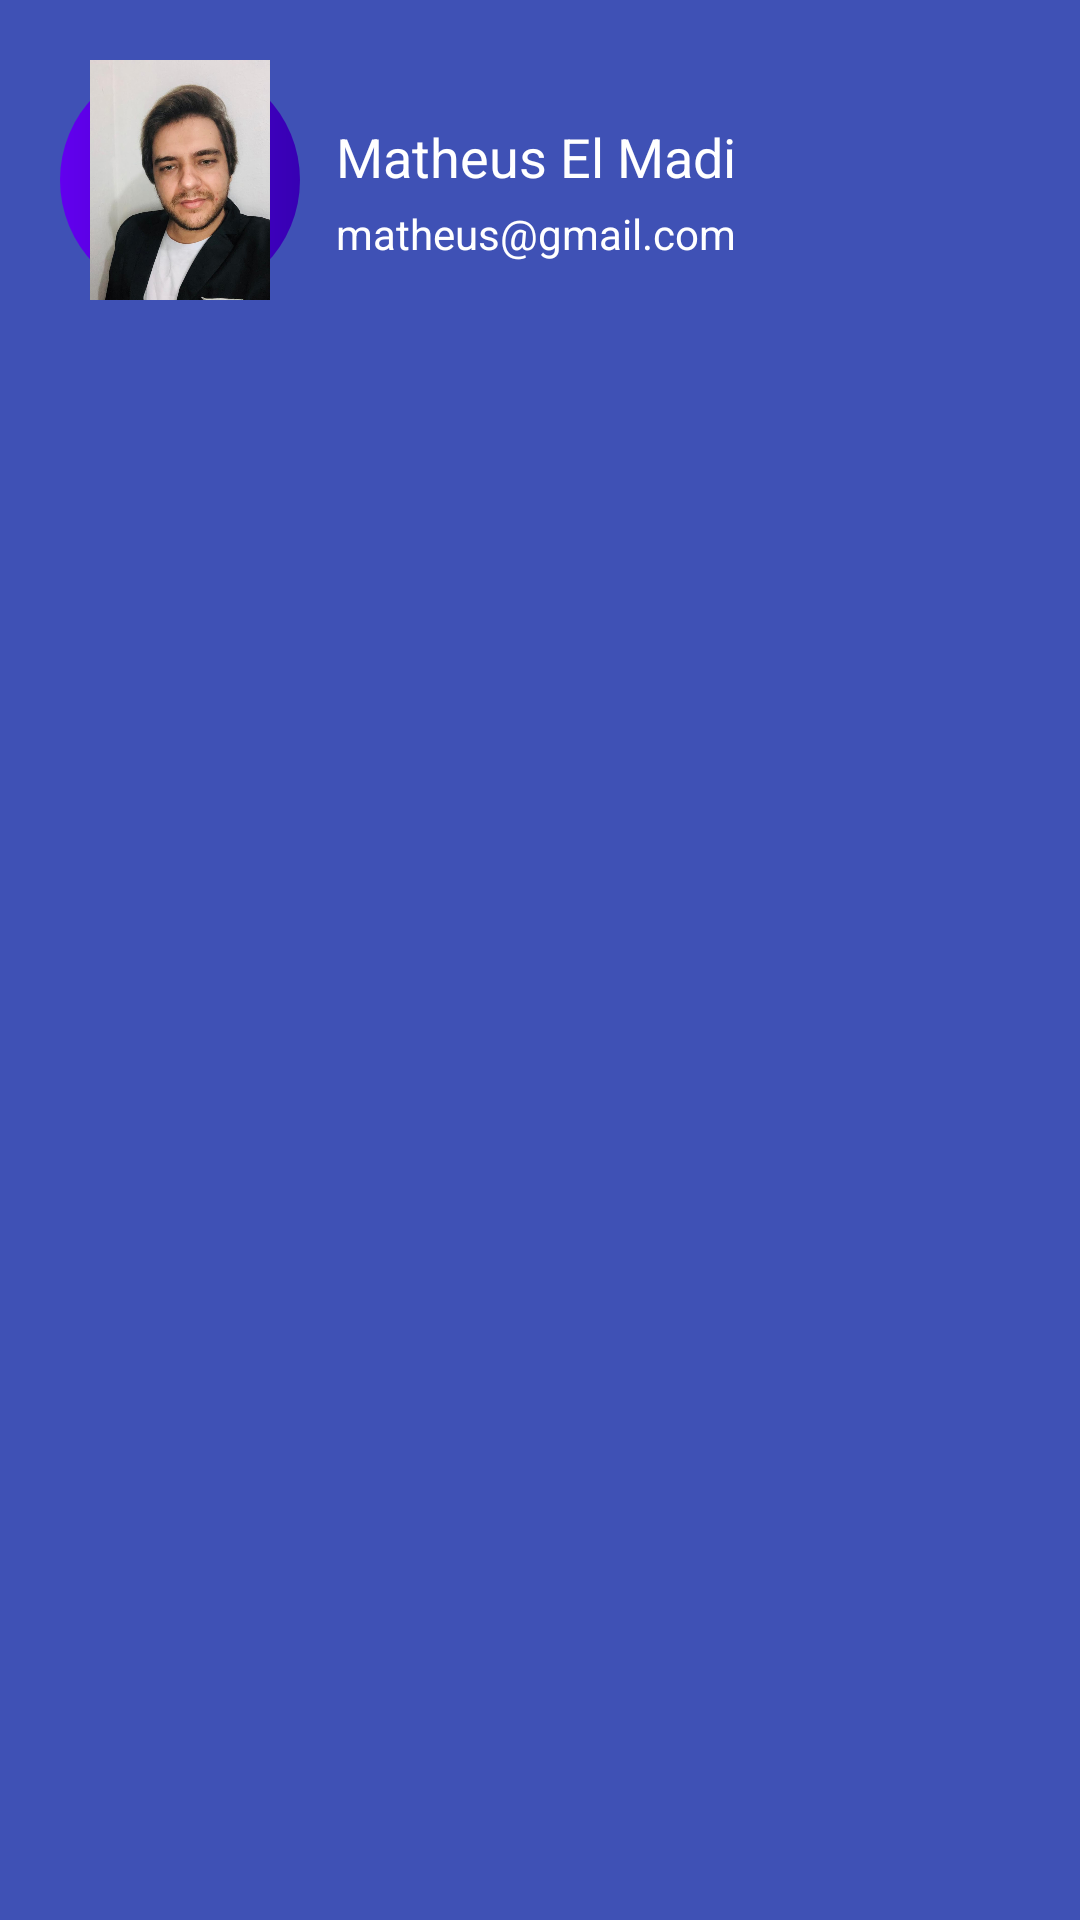

Icons on this 1080x1920 Android screen, each with its box as (x1, y1, x2, y2):
user: (60, 60, 300, 300)
